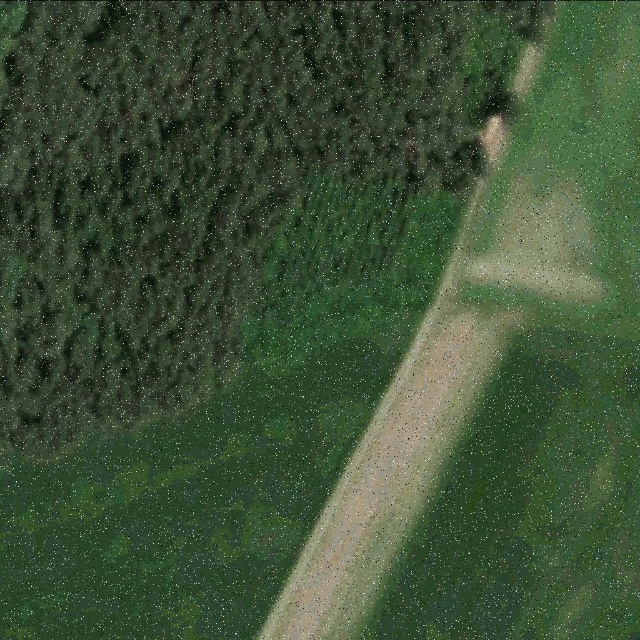vegetation: (0, 0, 553, 453)
